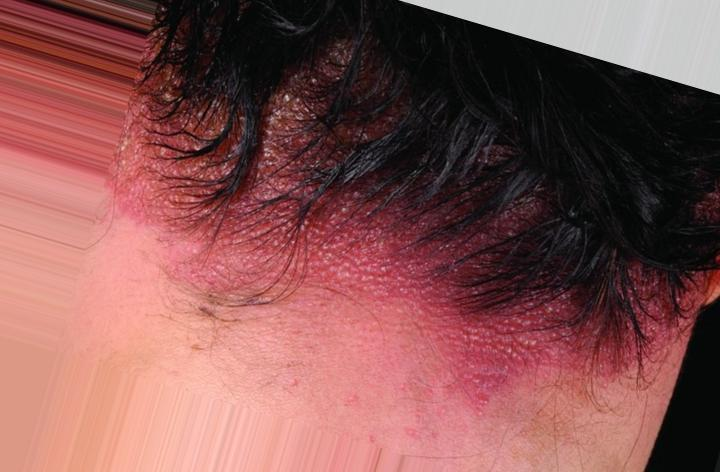Contact Dermatitis: (165, 75, 616, 355)
